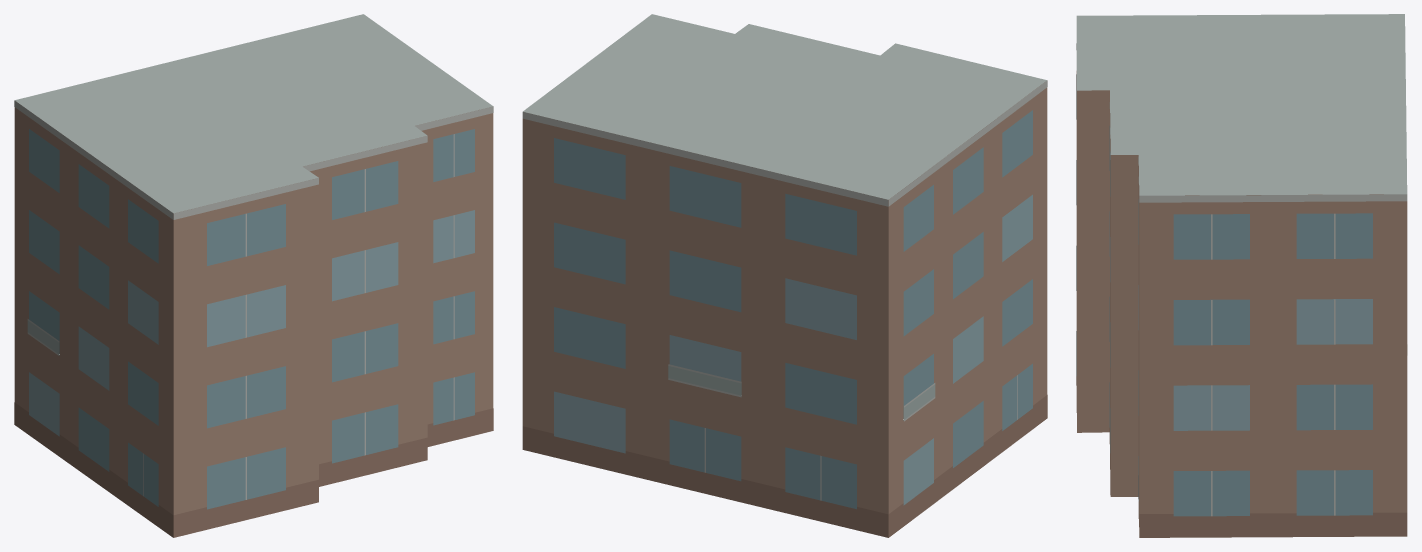
File: survey-upis-32559295.glb
The picture shows the model from 3 angles, left to right: view 1: azimuth 30°, elevation 25°; view 2: azimuth 150°, elevation 25°; view 3: azimuth 270°, elevation 25°; orthographic projection. The views are drawn at different scales.
Visible parts, largest first — view 1: survey-upis-32559295.tmp; view 2: survey-upis-32559295.tmp; view 3: survey-upis-32559295.tmp.
Part boxes in pixels (x1,y1,x2,y2): survey-upis-32559295.tmp: [14, 14, 493, 537]; survey-upis-32559295.tmp: [522, 14, 1047, 537]; survey-upis-32559295.tmp: [1076, 14, 1407, 537].
Bounding box in the file's own units: 13.58 × 11.9 × 10.44.
